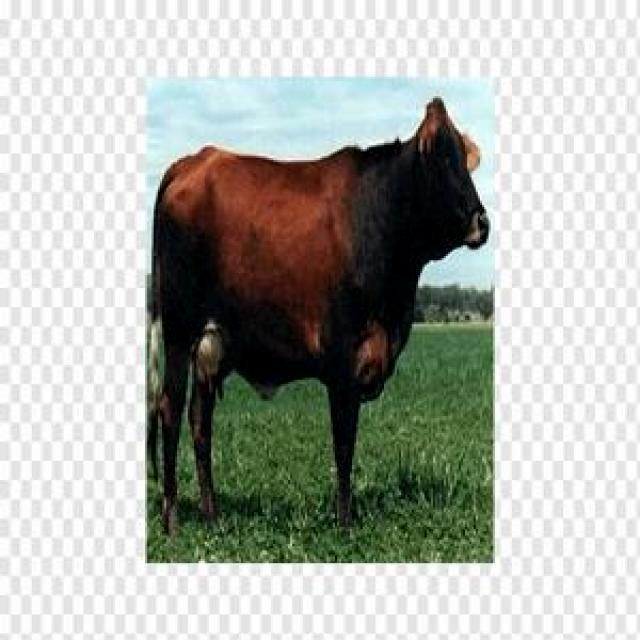COW: (149, 99, 489, 532)
